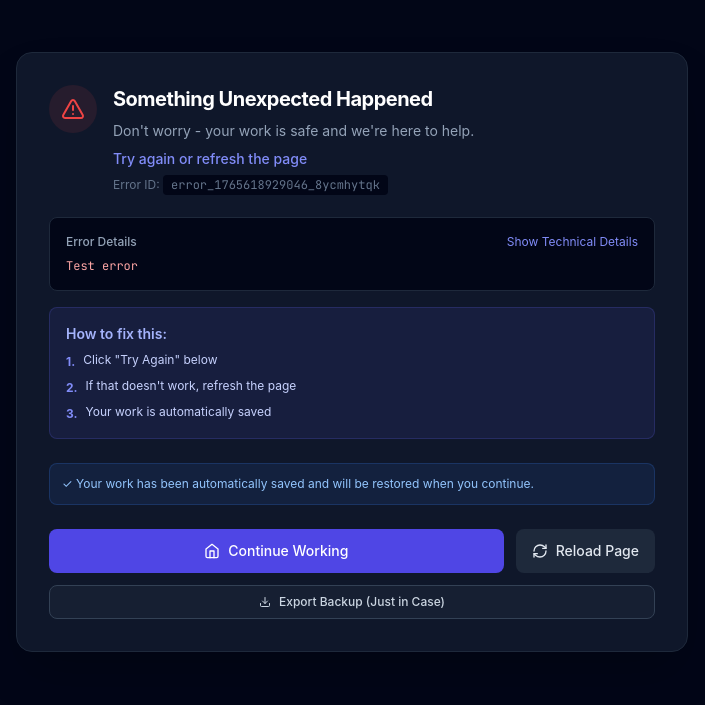
Scenario: Error Boundary Properties › Property 39: Error Logging › should display stack trace when requested
Click the button "Show Technical Details".
click(572, 242)  # box [507,234,638,250]
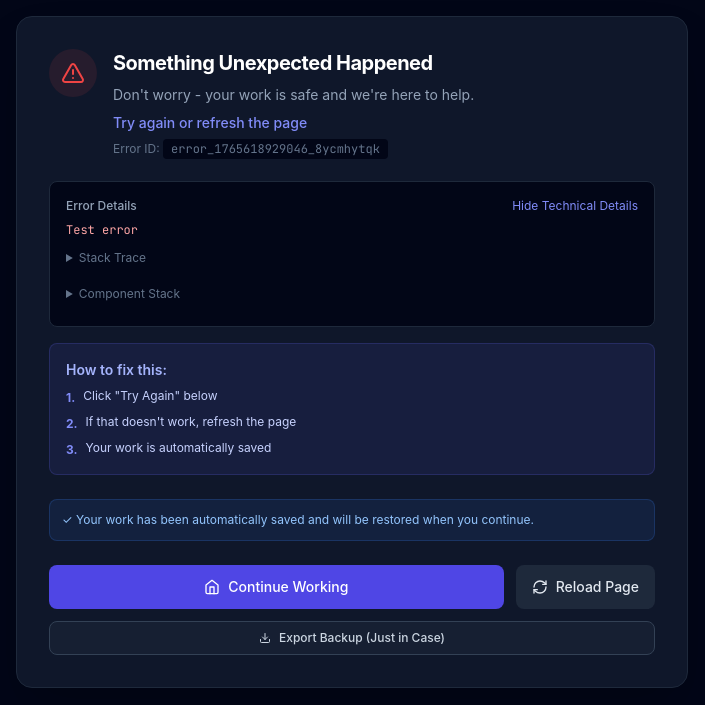
Expected: the heading "Stack Trace" is shown, [79,250,146,265]
